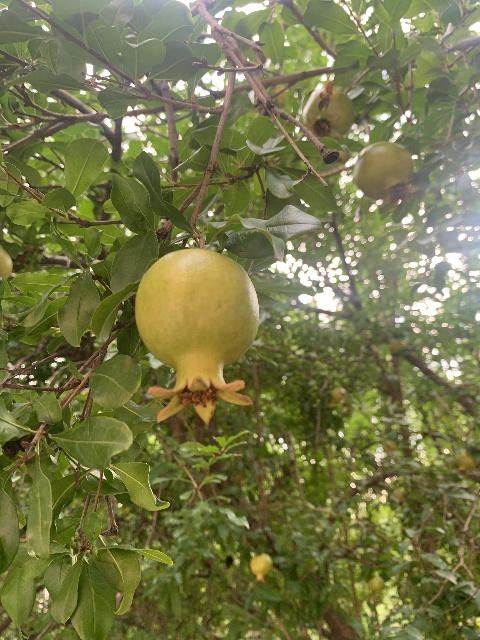mid-growth: (134, 248, 260, 428), (353, 141, 419, 212), (301, 87, 354, 137), (250, 553, 272, 586), (366, 576, 385, 601), (456, 455, 476, 478), (331, 386, 347, 407)
